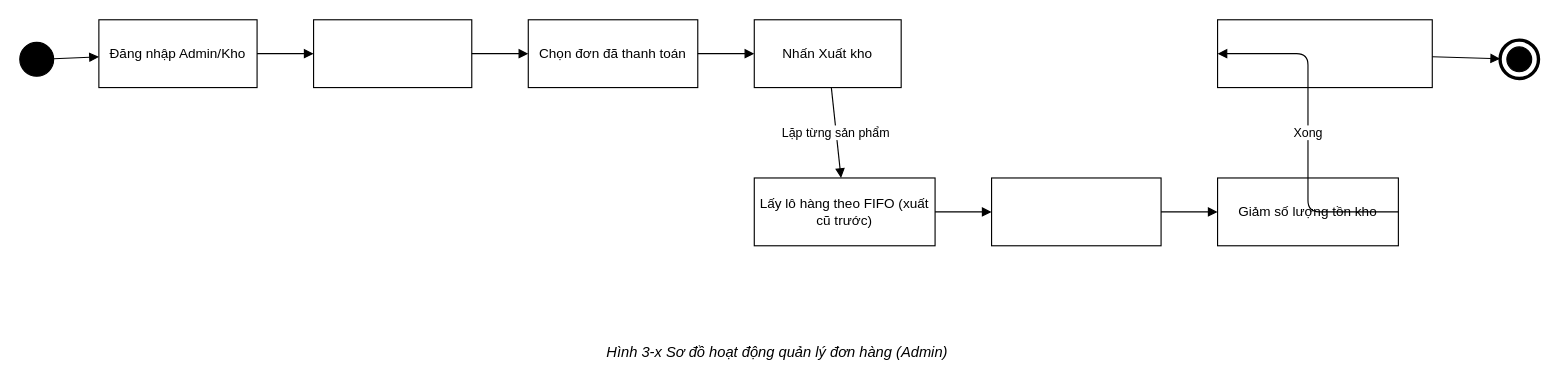
The diagram is 1559 pixels wide and 390 high, and some of its shapes have lost their labels. The shapes that lost their labels are listed below. From the top down, each one's centre as x and y in pixels, then its label:
At [392,53]: "Vào trang Đơn hàng".
At [1324,53]: "Cập nhật trạng thái đơn hàng (đang giao)".
At [1075,211]: "Tạo log xuất kho".
